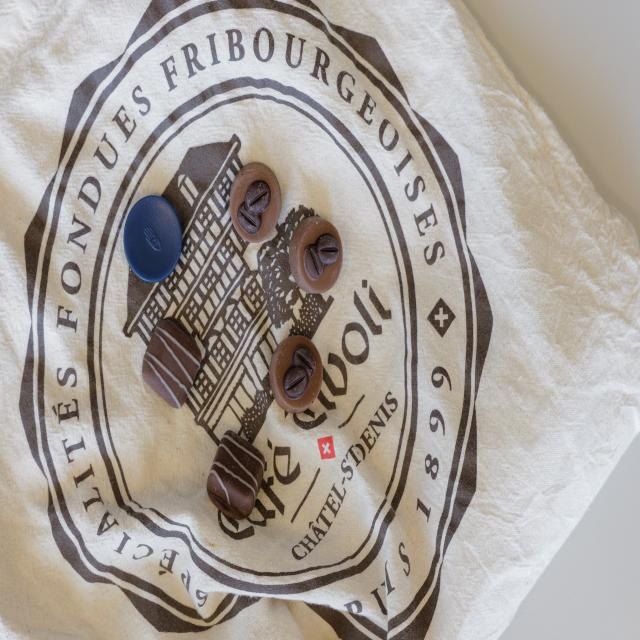Arabia: (292, 216, 344, 294), (271, 334, 323, 412), (231, 162, 281, 243)
Stracciatella: (143, 317, 204, 405), (210, 428, 266, 516)
